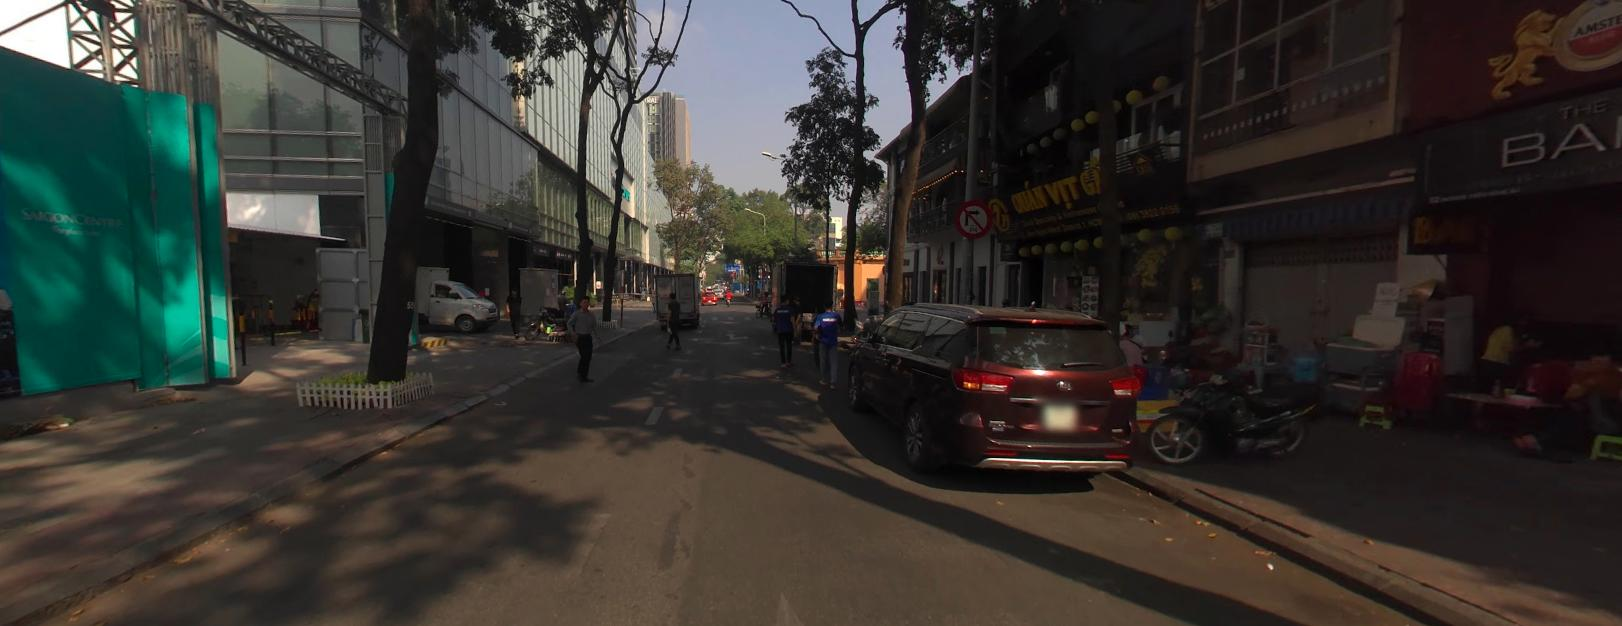Cam re: (955, 197, 991, 237), (954, 198, 991, 236)
